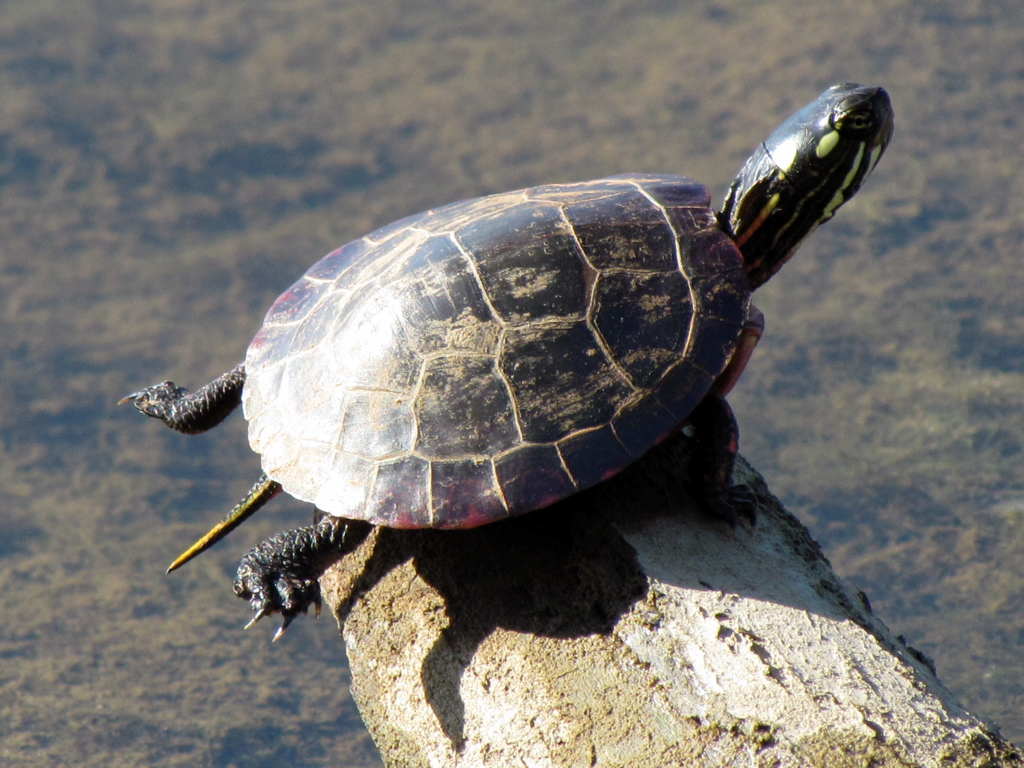Sea turtles: (115, 83, 894, 641)
